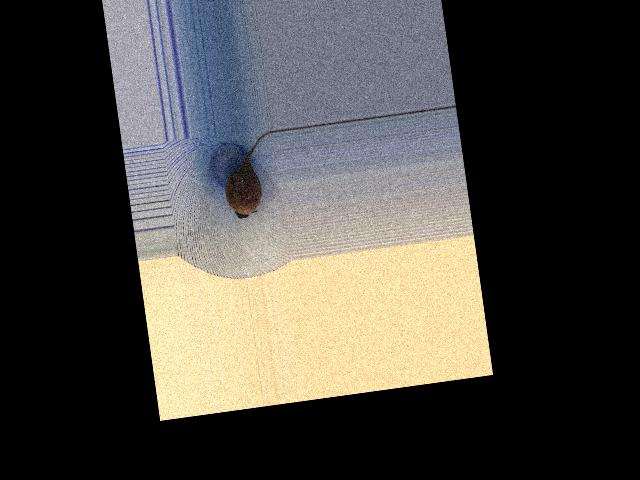beet: (218, 131, 285, 220)
